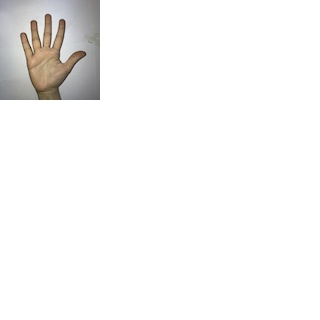paper: (17, 12, 87, 91)
